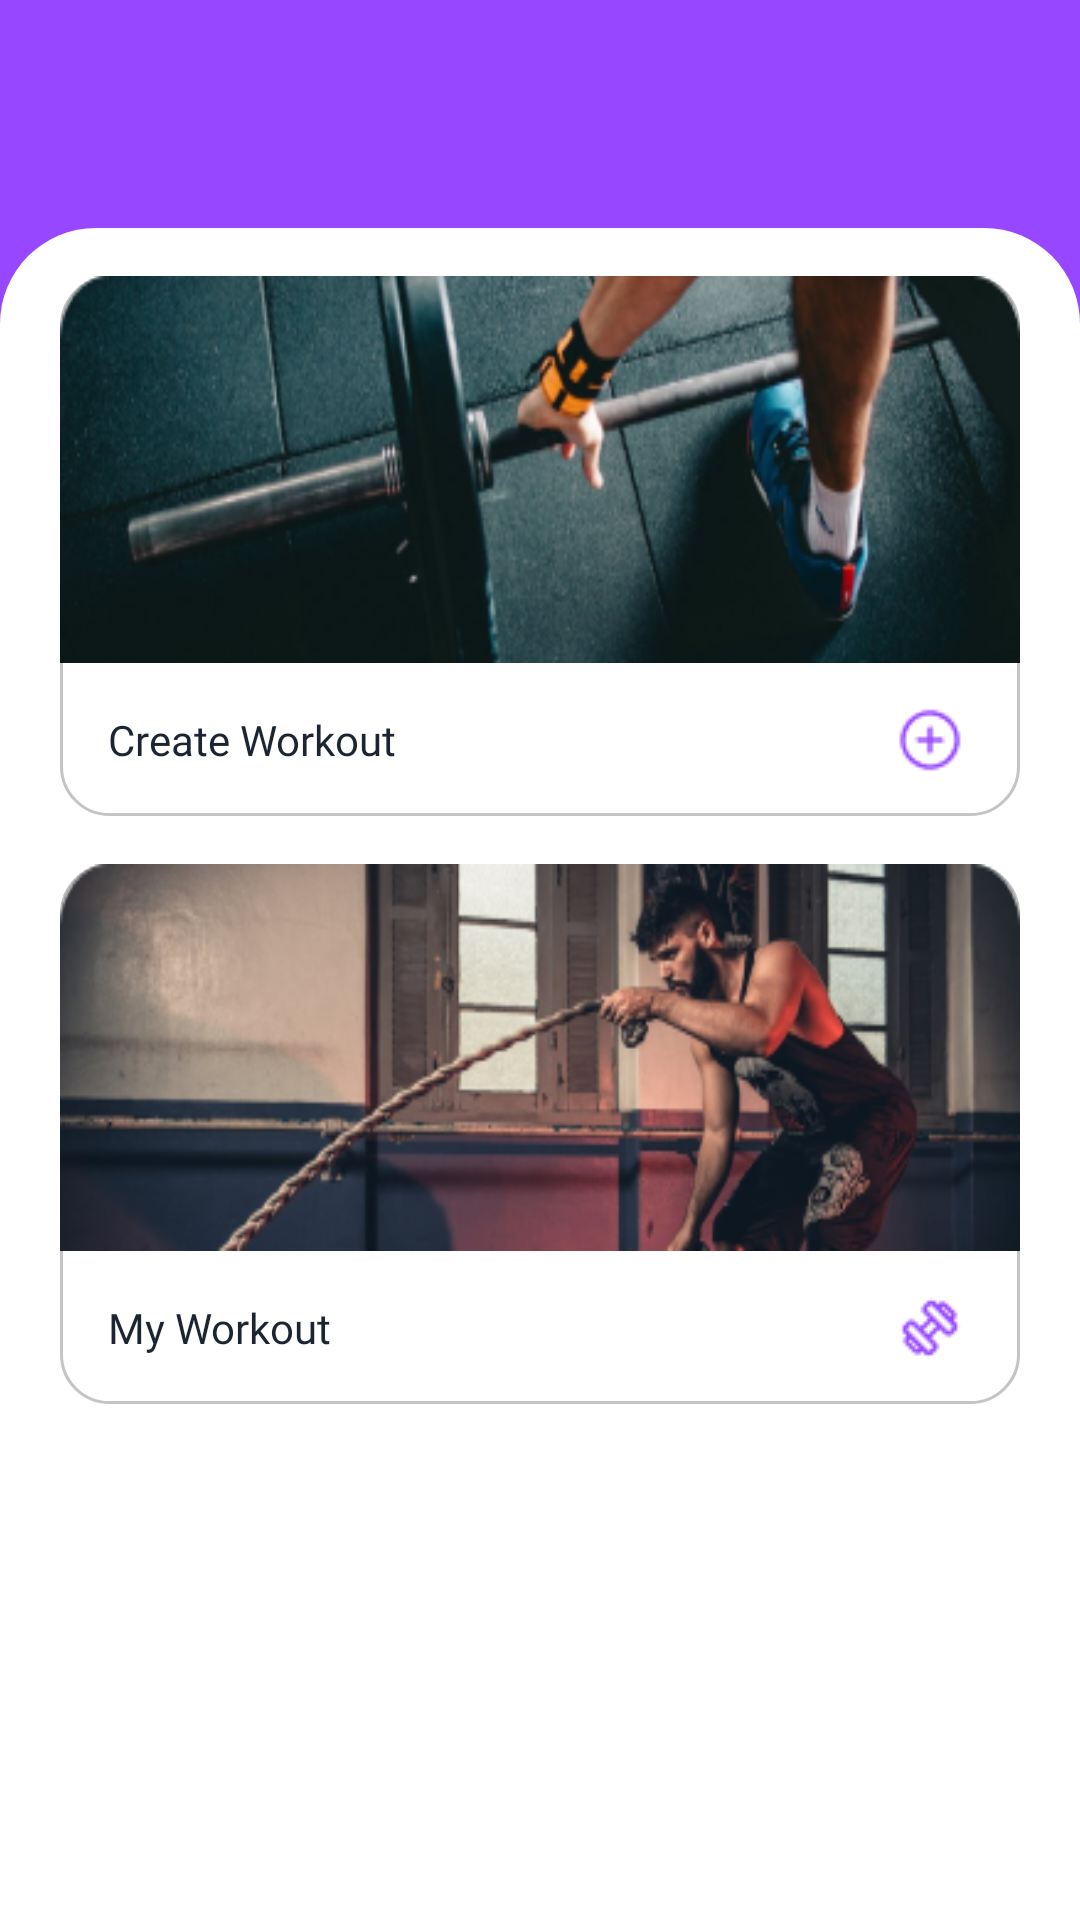

Icons on this 1080px×1920px Android screen, each with its box as (x1, y1, x2, y2):
add new workout: (899, 709, 961, 771)
list workouts: (902, 1300, 958, 1356)
